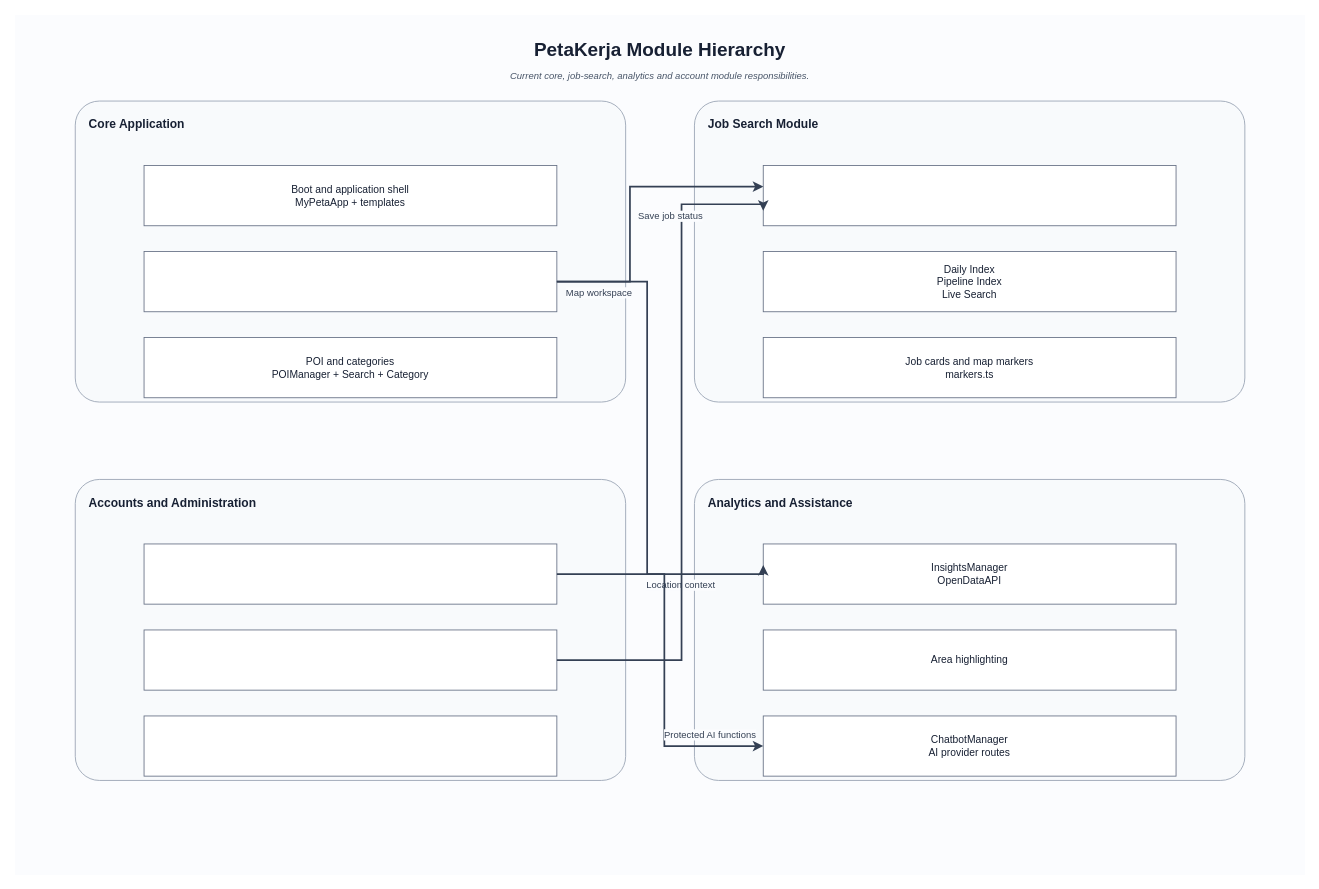
Image size: 1319x889. Some labels were removed from this diagram. The centre of each missing label's shape, as x and y in pixels:
Administration, configuration and user status: [350,745]
Better Auth: [350,573]
Interactive map MapManager + MapLibre: [350,281]
JobFinderManager: [969,195]
public.users profile bridge: [350,659]
